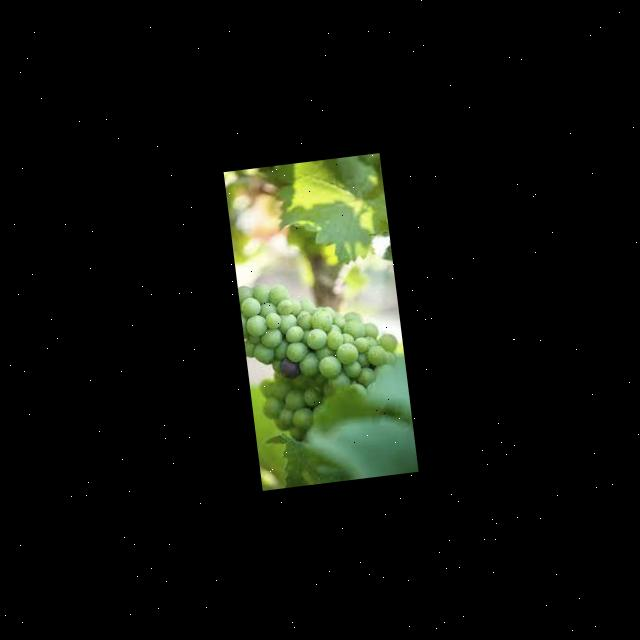grape: (237, 266, 408, 445)
